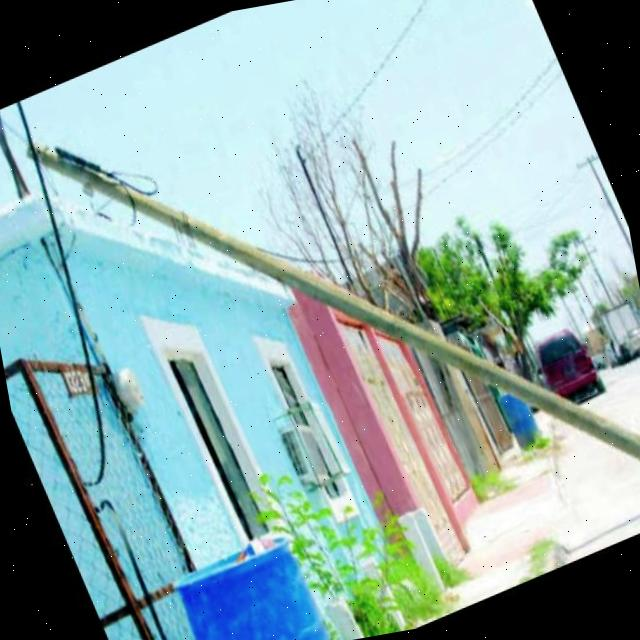Broken Pole: (24, 136, 640, 461)
